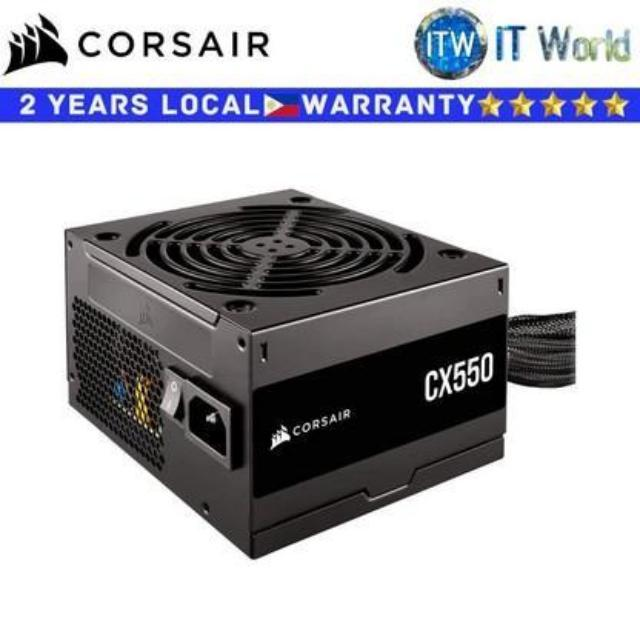PSU: (51, 180, 522, 574)
